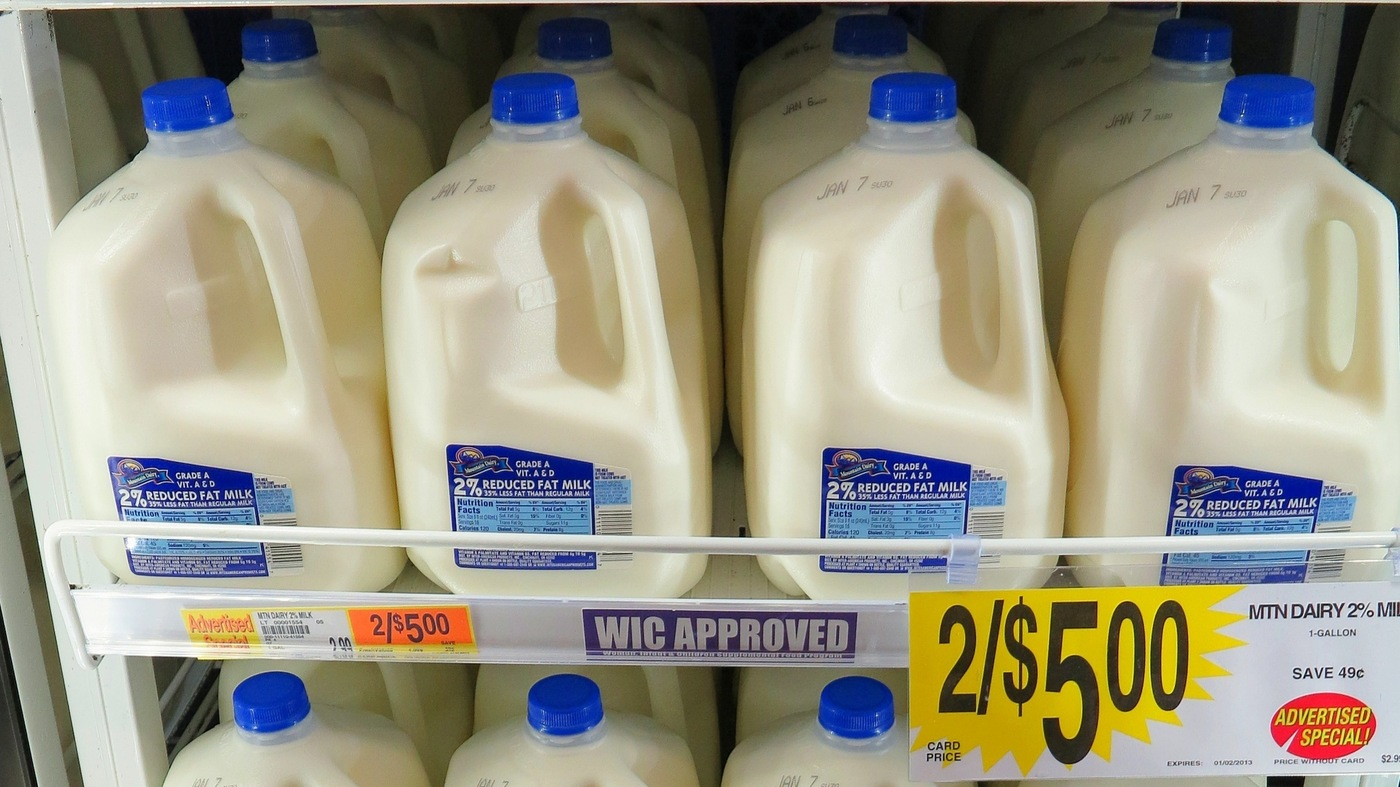milk: (730, 81, 1059, 581), (59, 86, 388, 577), (1084, 77, 1397, 592), (399, 88, 717, 576), (128, 674, 419, 787), (1041, 41, 1235, 185), (212, 19, 401, 161), (543, 12, 801, 116), (439, 672, 672, 787), (724, 681, 917, 787), (775, 25, 944, 74)
